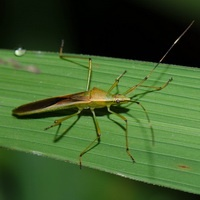insect: (12, 20, 193, 168)
